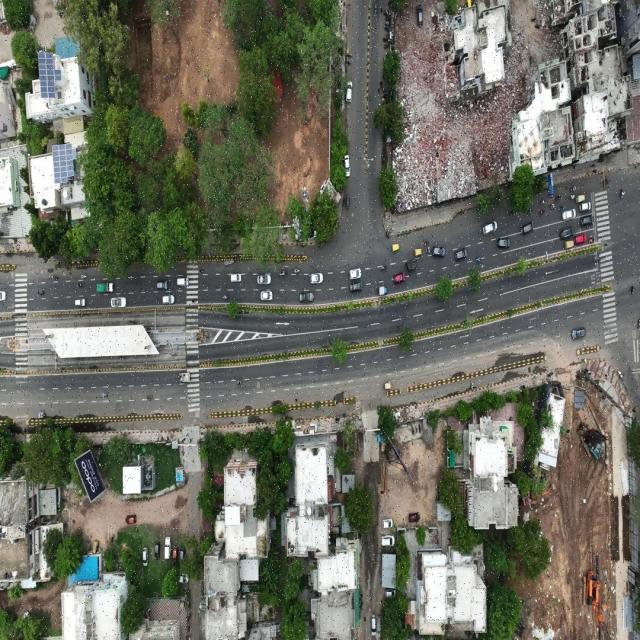3W: (91, 538, 100, 557), (390, 240, 401, 253), (576, 192, 587, 204), (563, 240, 574, 250), (345, 194, 351, 210), (383, 382, 393, 391), (413, 248, 423, 257)
Cars: (482, 219, 498, 237), (519, 220, 536, 236), (110, 295, 128, 309), (571, 326, 587, 341), (454, 246, 469, 262), (370, 612, 379, 638), (416, 3, 425, 28), (559, 226, 575, 240), (580, 213, 595, 227), (343, 154, 352, 177), (349, 280, 364, 293), (161, 292, 176, 305), (561, 209, 577, 221), (431, 245, 447, 257), (299, 291, 315, 303), (176, 572, 190, 585), (392, 272, 406, 285), (310, 272, 324, 285), (578, 201, 593, 213), (256, 274, 271, 286), (164, 536, 171, 561), (346, 78, 353, 103), (382, 534, 395, 547), (498, 238, 512, 250), (349, 268, 363, 280), (125, 513, 138, 525), (381, 518, 394, 530), (384, 588, 397, 600), (261, 290, 274, 302), (177, 276, 190, 288), (154, 540, 161, 562), (156, 280, 170, 291), (142, 546, 149, 567), (574, 234, 587, 245), (172, 546, 179, 566), (408, 512, 420, 523), (230, 272, 242, 283), (74, 298, 87, 308), (179, 547, 186, 564)
LCV: (95, 281, 114, 294), (405, 259, 418, 273), (178, 372, 191, 384), (378, 285, 388, 298)
M2W: (277, 269, 288, 277), (619, 187, 625, 199), (509, 208, 517, 217), (373, 2, 378, 16), (528, 53, 533, 66), (525, 208, 533, 216), (424, 246, 432, 254), (79, 273, 88, 280), (37, 289, 46, 296), (631, 282, 635, 297), (606, 178, 612, 188), (385, 230, 391, 240), (146, 394, 154, 401), (555, 194, 562, 202), (539, 208, 546, 216), (293, 267, 300, 275), (345, 52, 353, 59), (382, 36, 390, 43), (385, 7, 392, 15), (589, 236, 595, 245), (75, 283, 84, 289), (346, 58, 352, 67), (382, 87, 388, 96), (519, 384, 526, 391), (569, 186, 576, 193), (557, 205, 564, 212), (380, 264, 387, 271), (198, 268, 205, 275), (52, 274, 59, 281), (383, 20, 390, 27), (534, 22, 541, 29), (530, 16, 537, 23), (235, 380, 243, 386), (101, 392, 109, 398), (422, 239, 430, 245), (381, 9, 386, 18), (569, 194, 575, 201), (540, 199, 546, 206), (476, 257, 483, 263), (223, 294, 229, 301), (191, 297, 198, 303), (384, 43, 390, 50), (577, 368, 585, 373), (550, 202, 555, 210), (379, 79, 383, 89), (411, 425, 414, 438), (418, 422, 421, 435), (382, 93, 388, 99), (415, 425, 418, 435), (585, 367, 589, 374)
